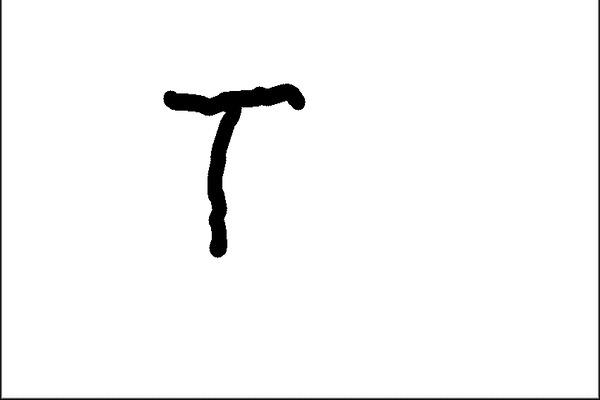T: (155, 82, 308, 260)
